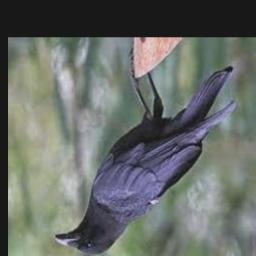Crow: (55, 48, 238, 256)
